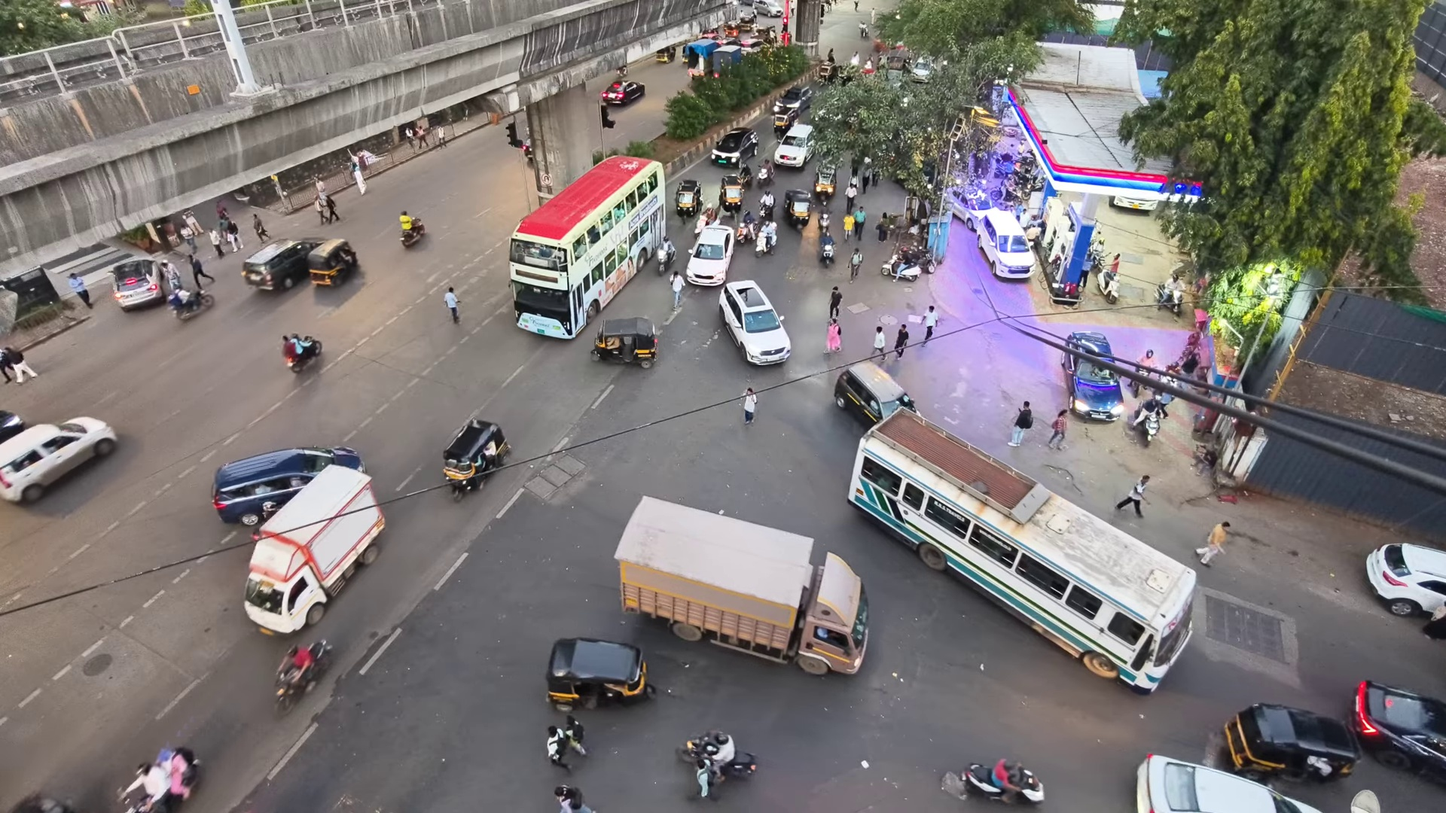driving: (847, 410, 1196, 693), (615, 496, 867, 674), (509, 156, 667, 337), (244, 466, 384, 633), (212, 447, 365, 526), (1136, 755, 1319, 812), (0, 417, 117, 502), (1353, 681, 1445, 781), (719, 281, 791, 364), (1366, 543, 1445, 617), (444, 418, 509, 499), (243, 238, 325, 290), (1061, 353, 1124, 420), (590, 317, 657, 368), (685, 224, 736, 285), (111, 260, 166, 310), (711, 127, 758, 166), (601, 79, 645, 105)
walking: (1195, 522, 1230, 565), (1115, 475, 1149, 516), (3, 347, 38, 383), (1008, 400, 1032, 446), (548, 726, 570, 772), (554, 785, 591, 812), (563, 715, 586, 756), (189, 254, 215, 290), (69, 272, 93, 308), (696, 758, 716, 800), (1422, 604, 1445, 640), (1047, 410, 1068, 449), (159, 260, 183, 291), (922, 306, 938, 343), (444, 286, 459, 323), (670, 272, 684, 309), (743, 387, 757, 423), (894, 323, 908, 359), (227, 221, 243, 252), (178, 224, 196, 251), (826, 318, 840, 352), (850, 248, 862, 283), (829, 286, 842, 318), (253, 213, 268, 240), (873, 327, 886, 358), (861, 157, 872, 193), (209, 229, 223, 257), (854, 206, 865, 241), (325, 195, 339, 222), (313, 195, 326, 224), (0, 349, 11, 382), (845, 181, 857, 210), (843, 210, 854, 241), (877, 212, 888, 241), (404, 126, 416, 151), (435, 124, 447, 148), (314, 175, 325, 197), (850, 51, 860, 67)
